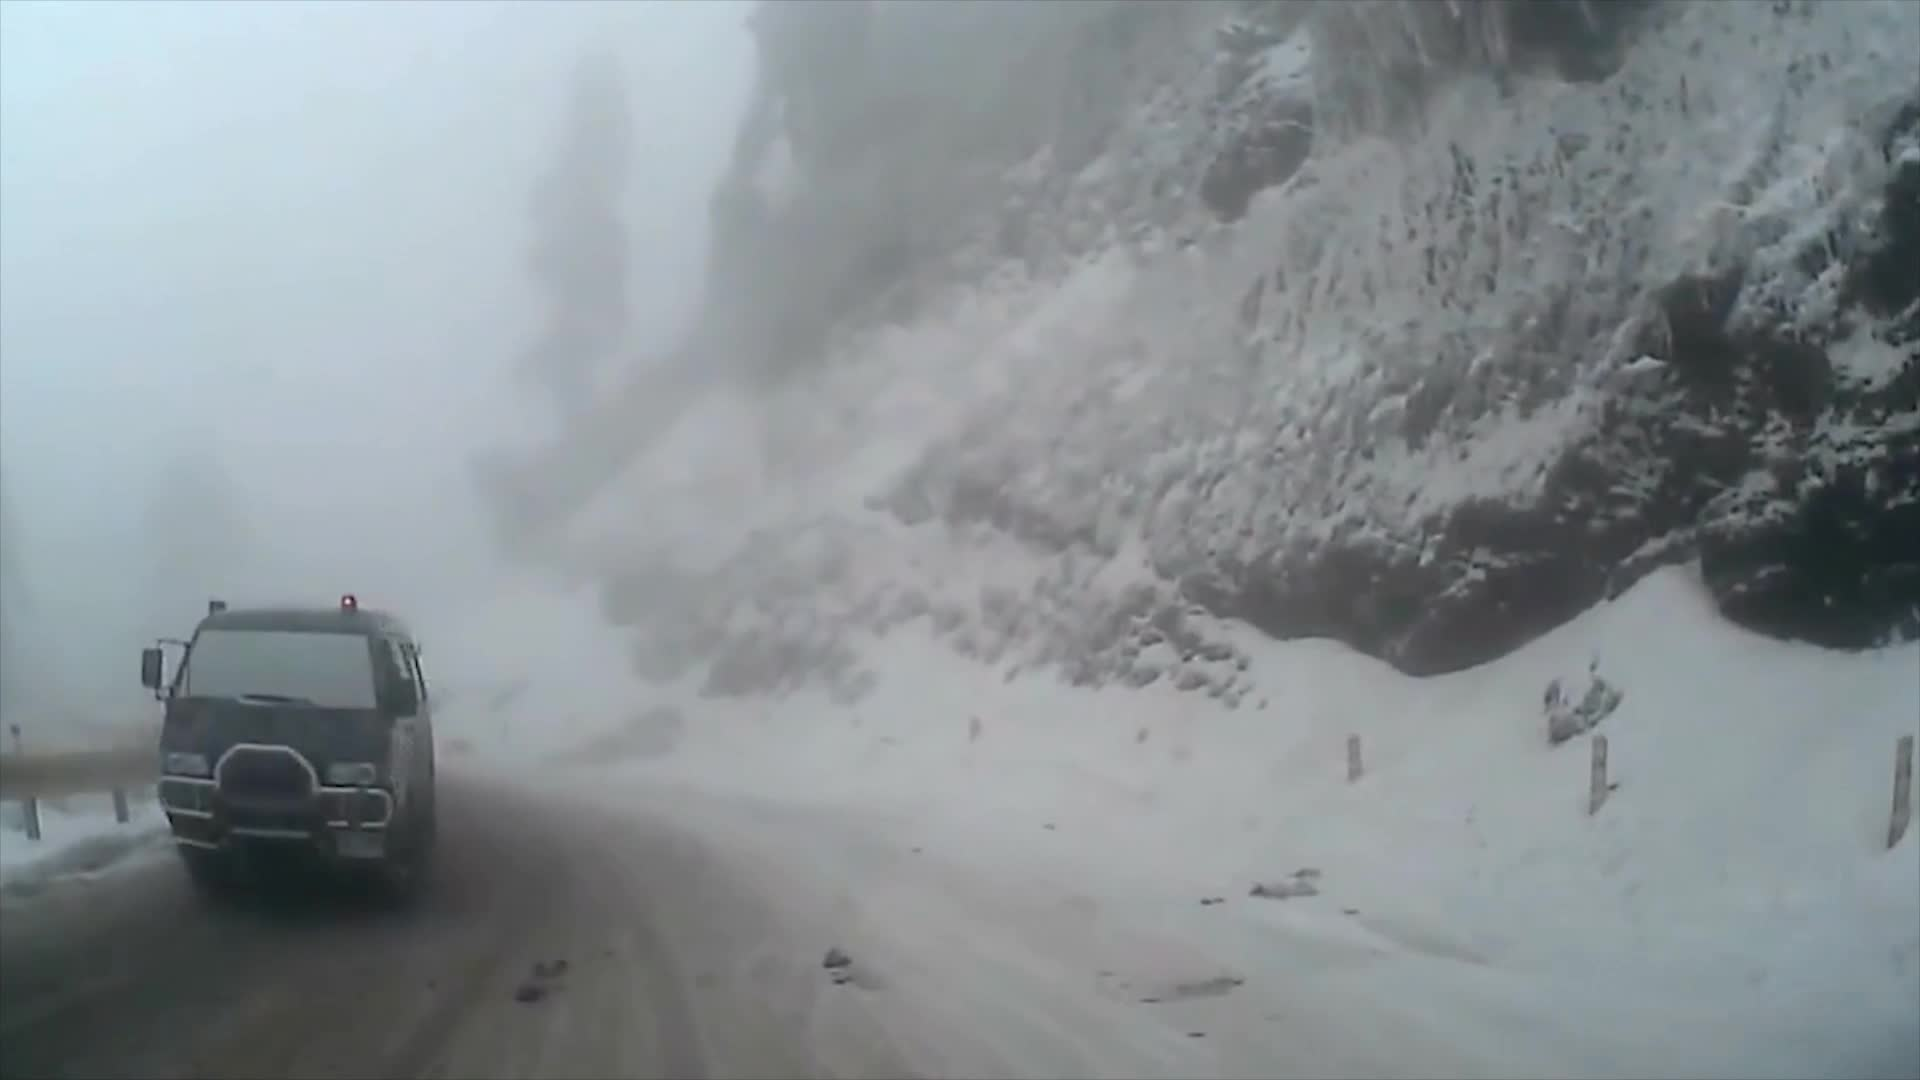vehicle: (137, 595, 438, 905)
